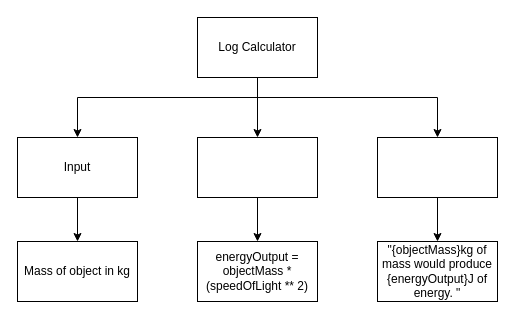
Image size: 515x319. Some labels were removed from this diagram. Each missing label, with the centre of its shape:
Output: the point at 437,167
Process: the point at 257,167
